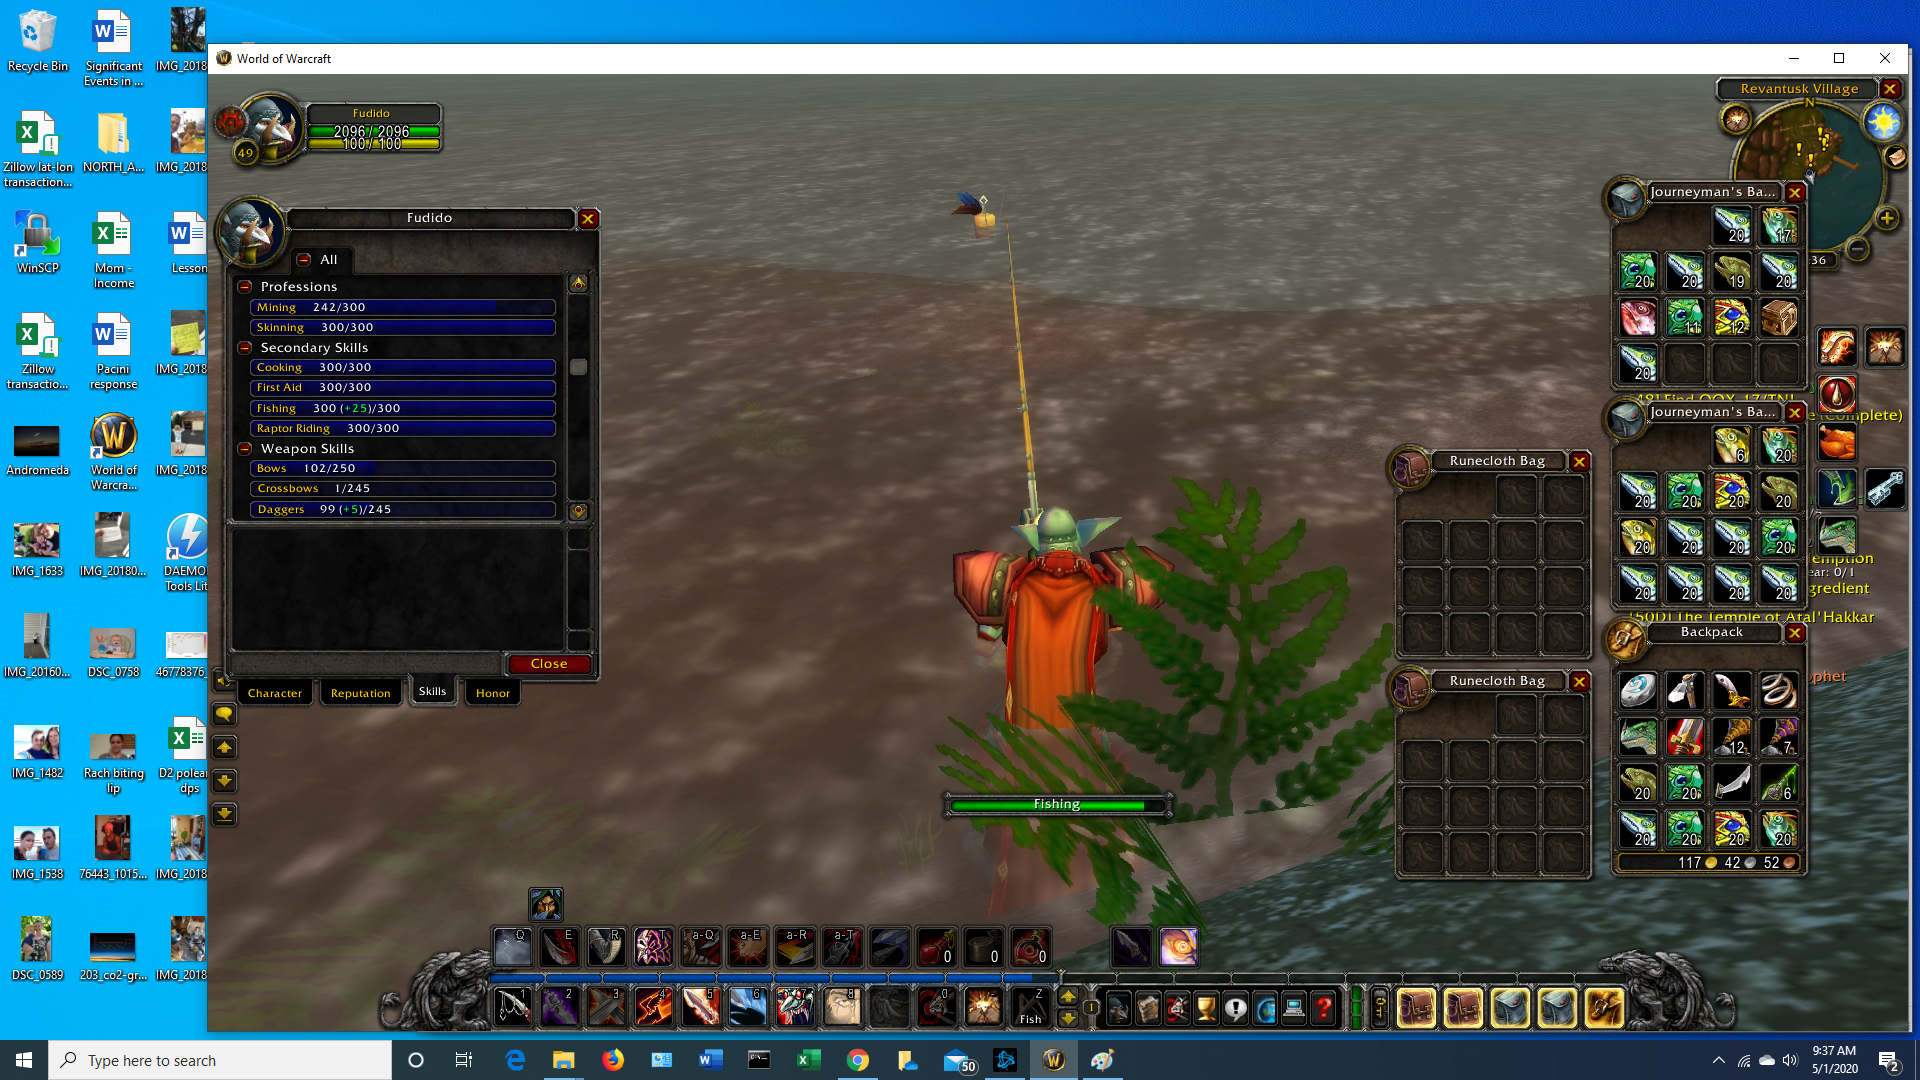bobble: (949, 183, 1007, 247)
